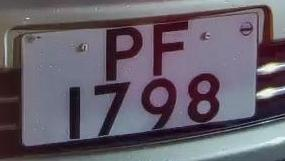1: (61, 81, 92, 143)
7: (86, 77, 135, 141)
8: (181, 69, 230, 126)
9: (135, 72, 182, 133)
F: (143, 21, 196, 79)
P: (93, 21, 153, 87)
